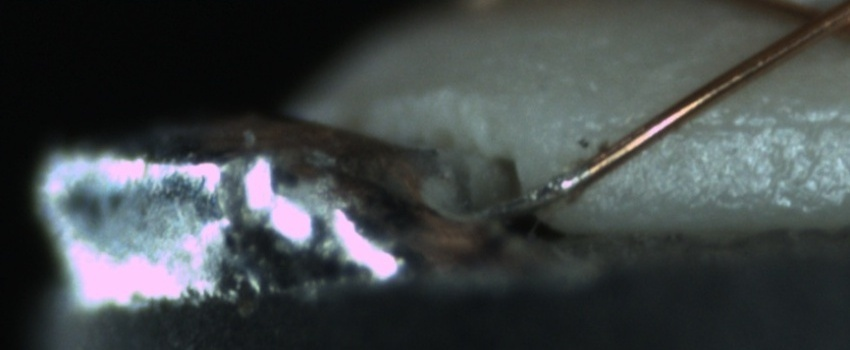CL: (780, 1, 849, 47)
DL: (676, 94, 850, 156)
TS: (462, 170, 583, 222)
